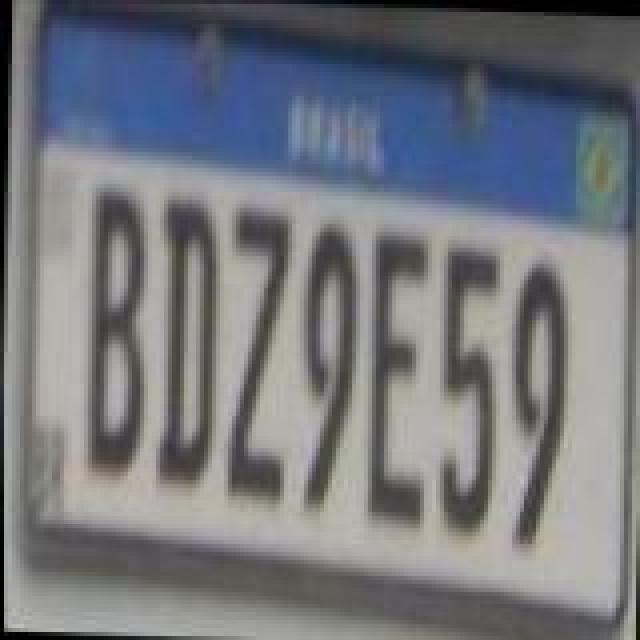5: (430, 234, 498, 530)
9: (502, 256, 570, 552), (294, 218, 362, 506)
B: (78, 180, 150, 476)
D: (150, 196, 222, 488)
E: (360, 230, 432, 530)
Z: (220, 206, 292, 506)
